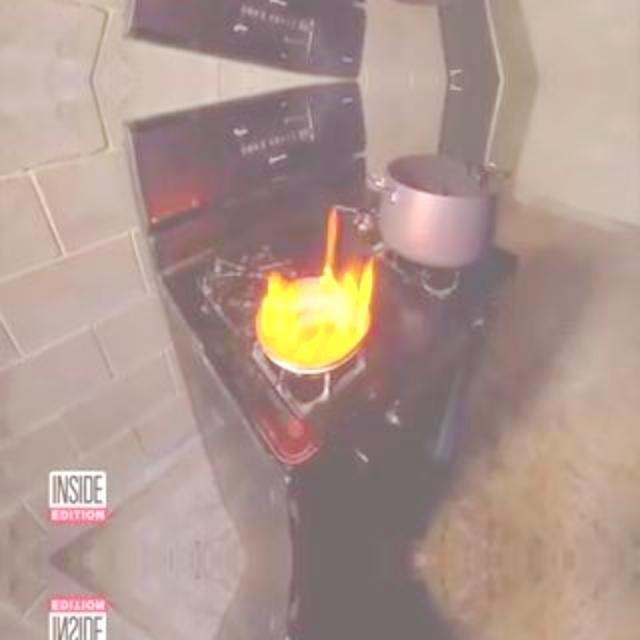fire: (248, 224, 401, 396)
